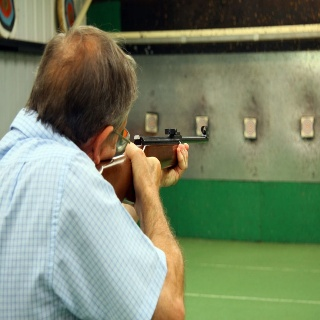rifle: (96, 125, 213, 201)
